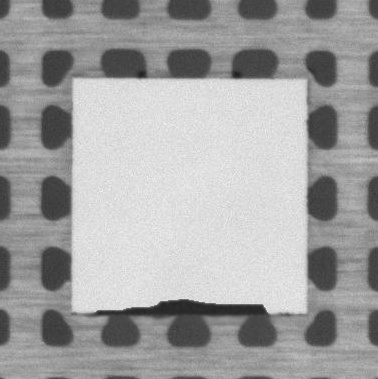DIE_BROKEN: (92, 293, 272, 319)
